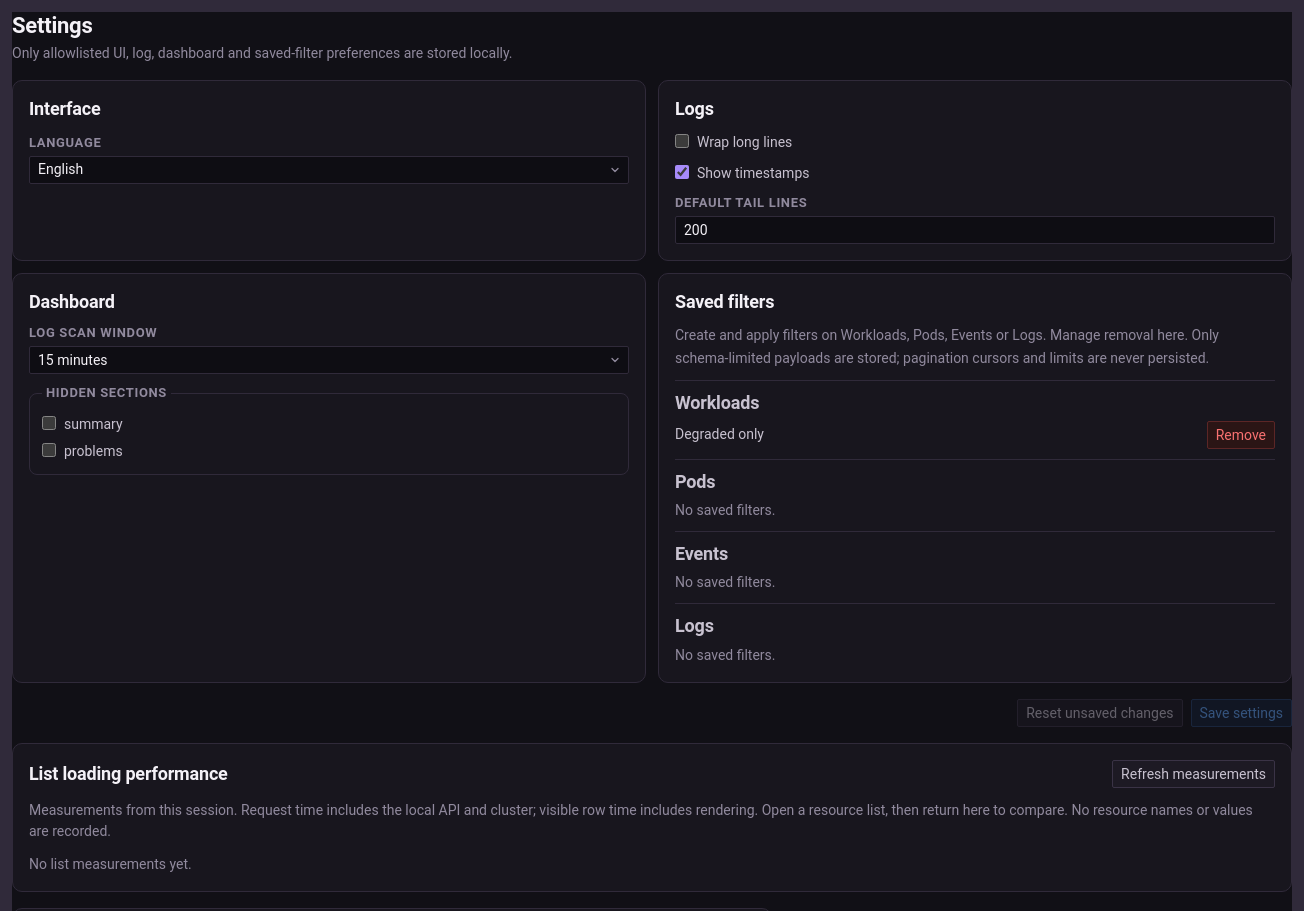
Test: allowlisted settings › keeps Reset and all editors disabled until a pending PUT settles
This screenshot has width=1304, height=911.
Replace the text in the number field labelled "Default tail lines" with "350": (975, 230) [675,216,1275,244]
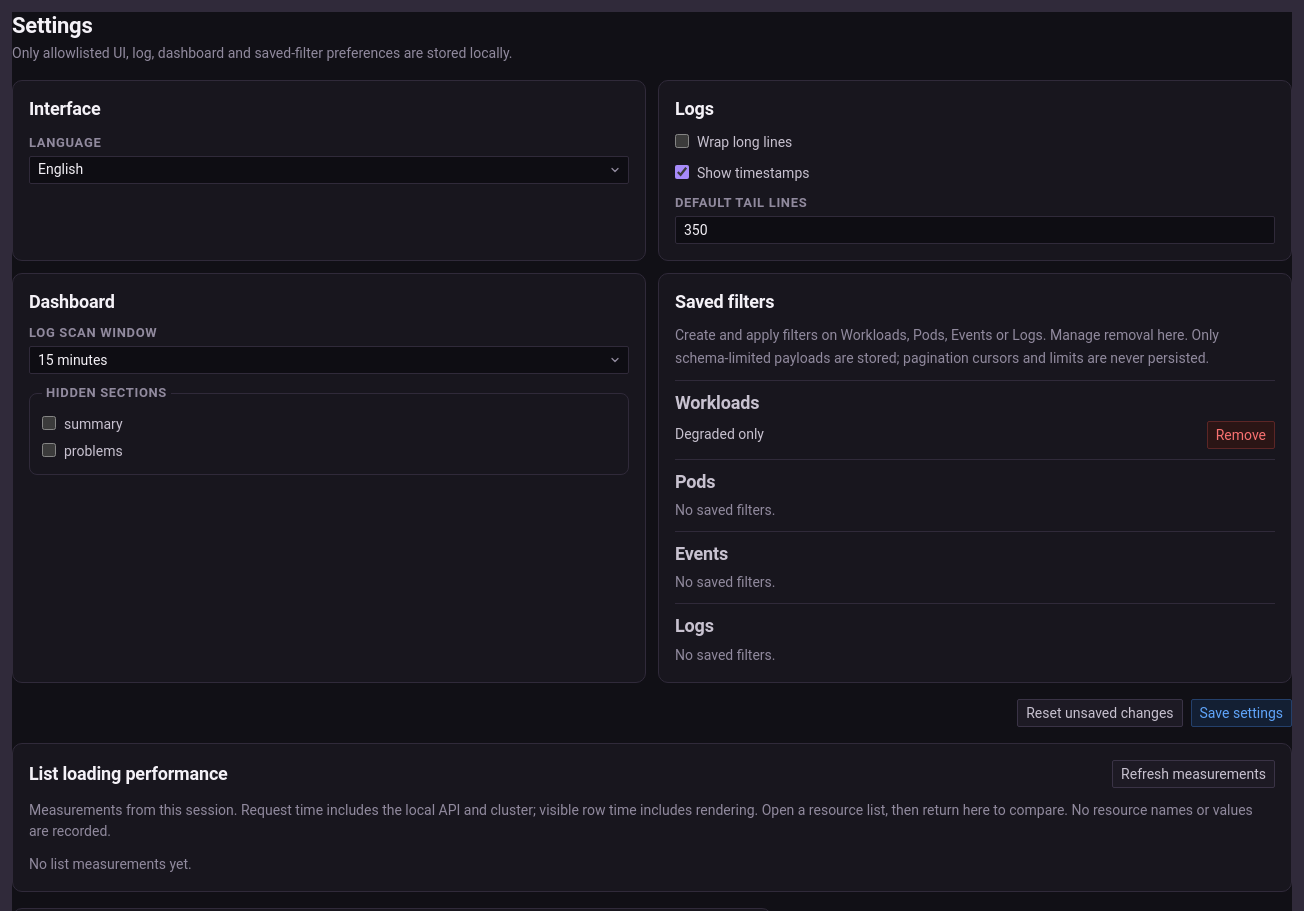
Click the button "Save settings": (1241, 713) [1190,699,1292,727]
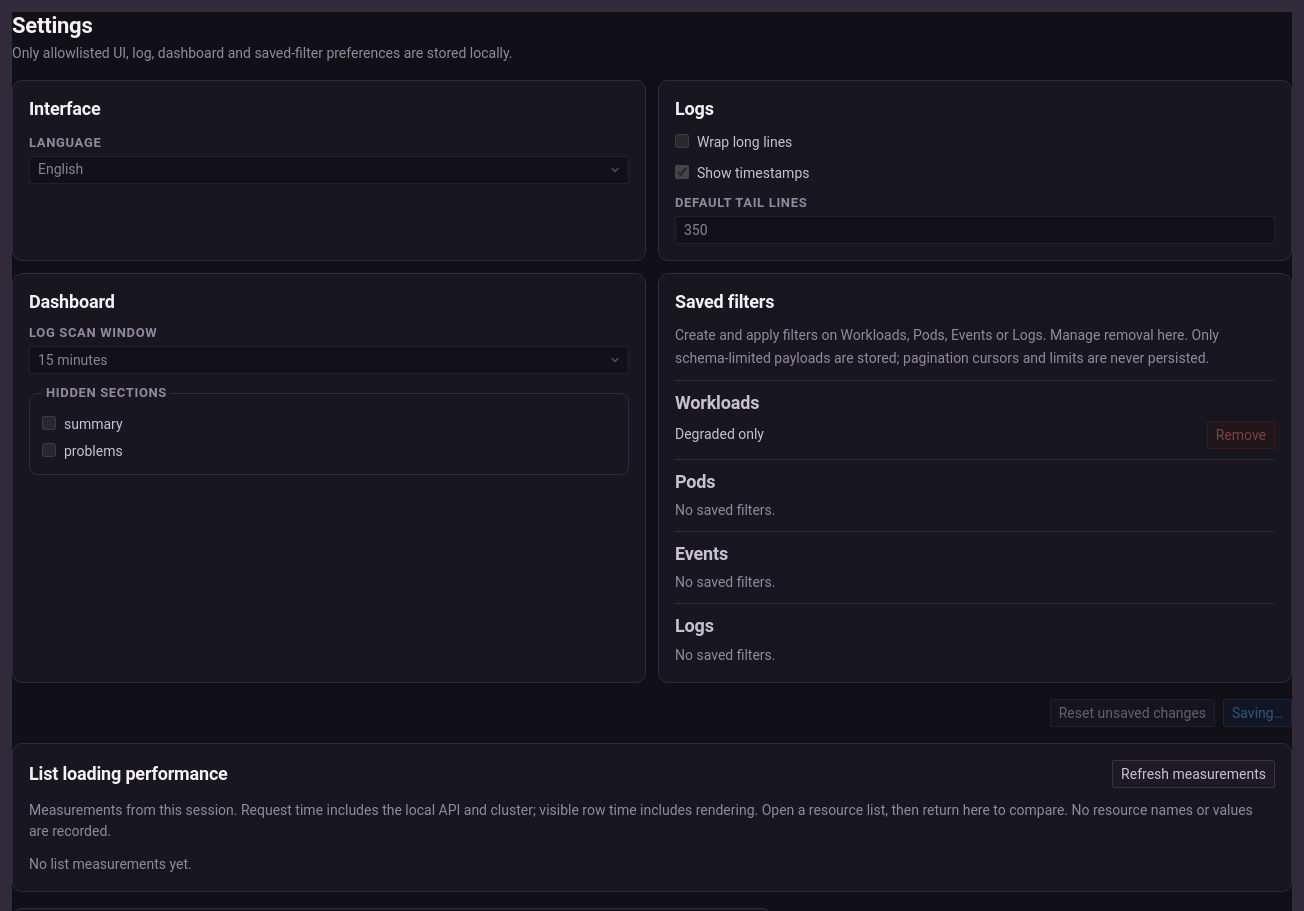
Expected: the number field labelled "Default tail lines" is disabled, [675,216,1275,244]
Expected: the button "Reset unsaved changes" is disabled
Click the button "Reset unsaved changes": (1132, 713) [1050,699,1215,727]
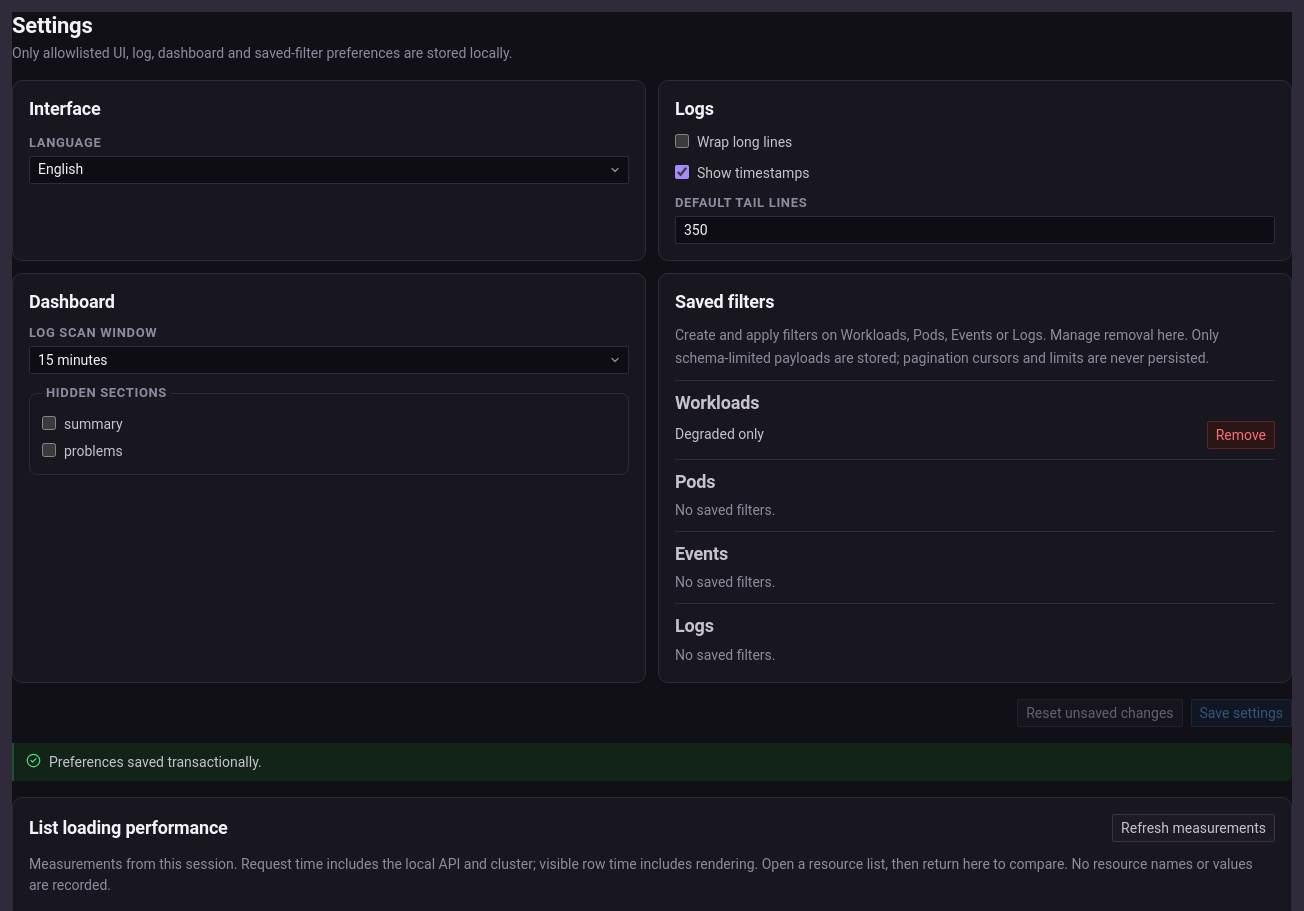
Expected: the button "Reset unsaved changes" is disabled, [1017,699,1182,727]
Expected: the message shows "Preferences saved transactionally", [49,754,262,770]
